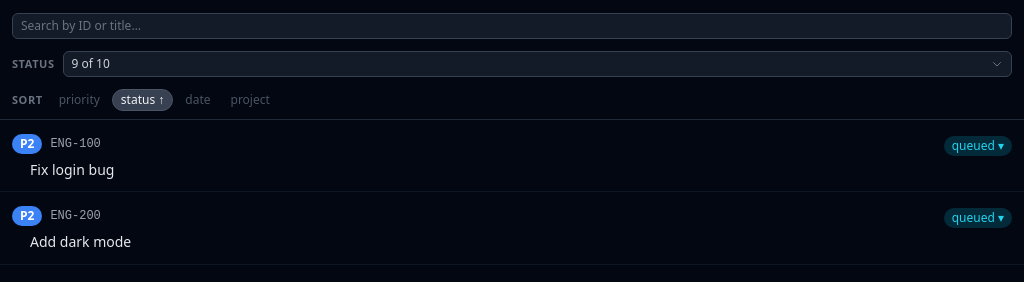
Test case: TaskList › filters tasks by agentPrompt (title) search
Step 1. Type "dark mode" into the field with placeholder "Search by ID or title…" → (512, 26), box [12,13,1012,39]
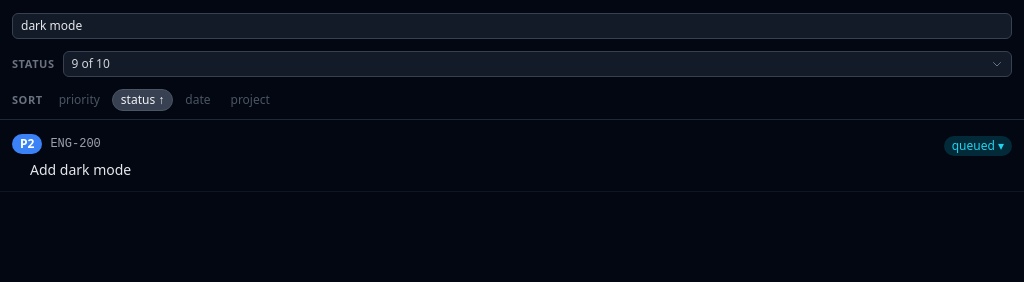
Expected: the text "ENG-200" is shown, [50,136,101,152]
Expected: the button "ENG-100" is gone
